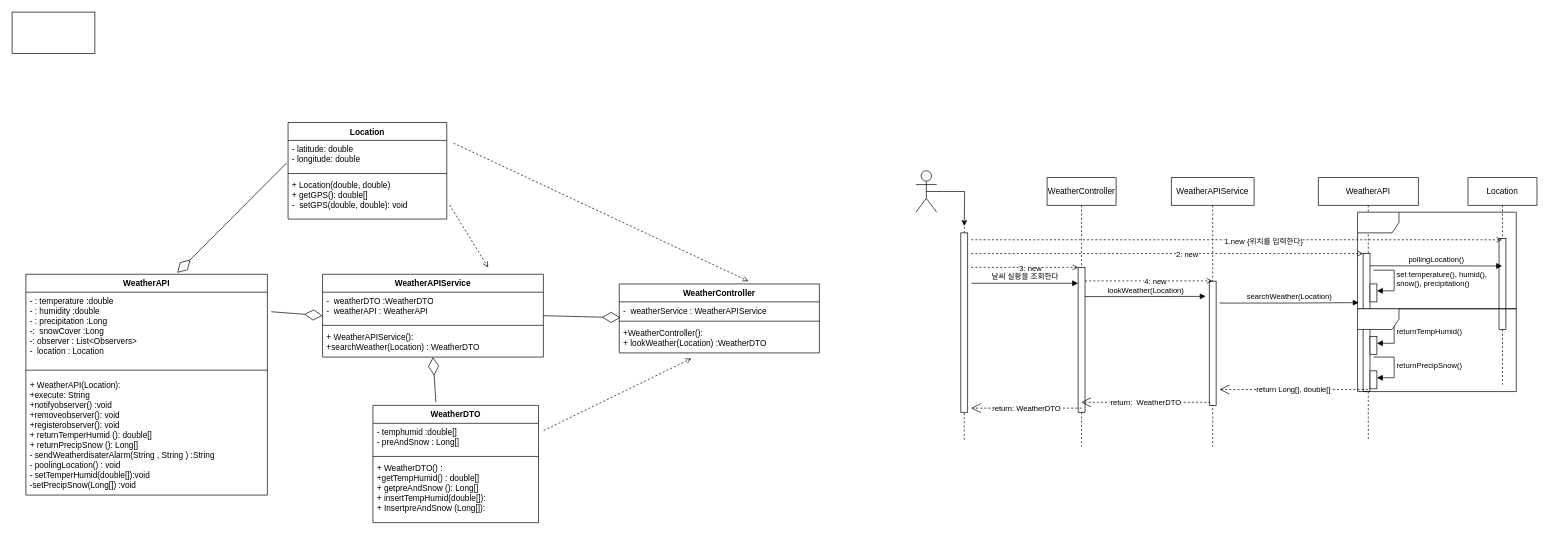
Image size: 1549x537. Some labels were removed from this diagram. Here are the shapes that lost their labels. From the top down, the centre of each, then its label:
the point at 53,32: 날씨, 기상 실황
the point at 926,191: User
the point at 1436,260: loop
the point at 1436,350: par
